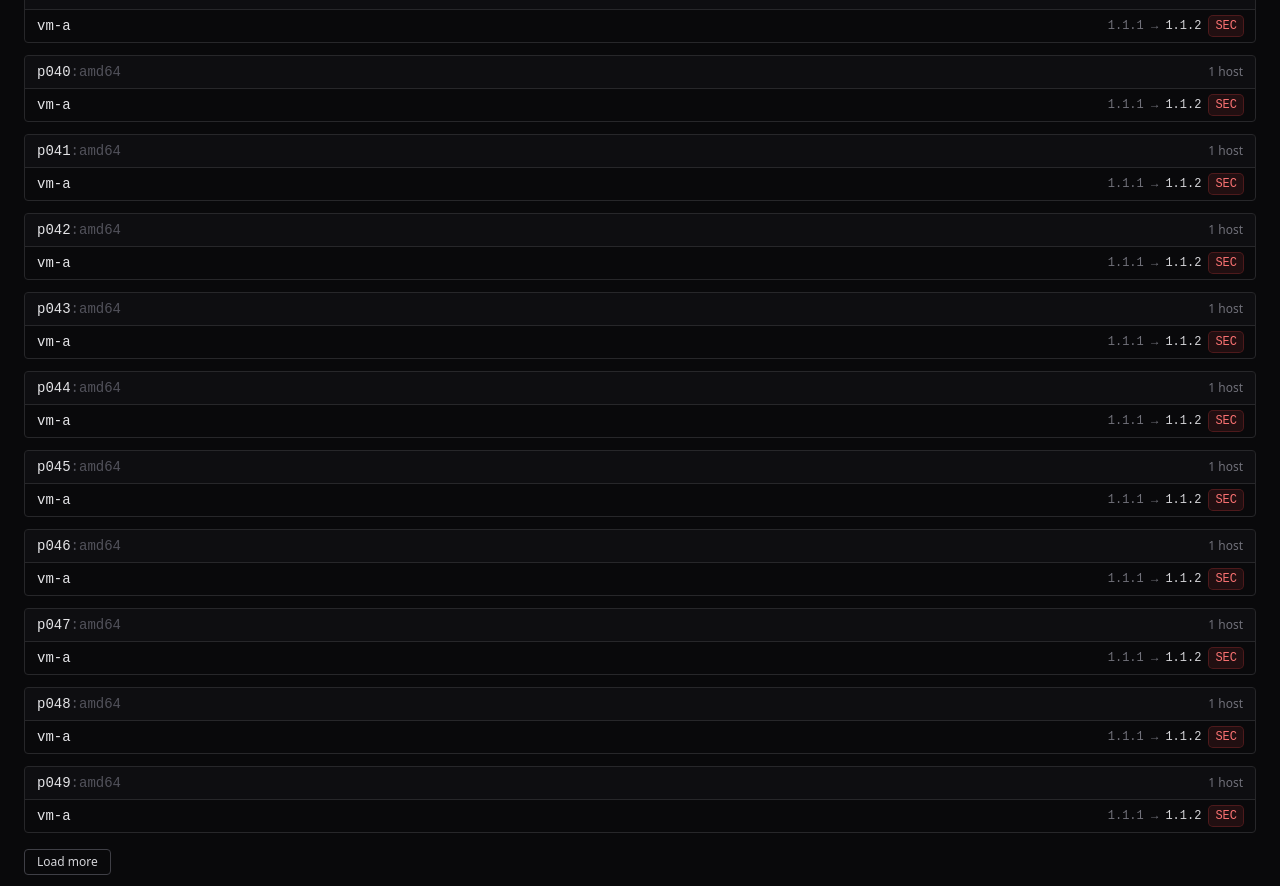
Test case: PackagesView › shows "Load more" only when a full page came back, and appends the next page
(page scrolled)
Click the button "Load more" at (67, 862), box [24,849,111,875]
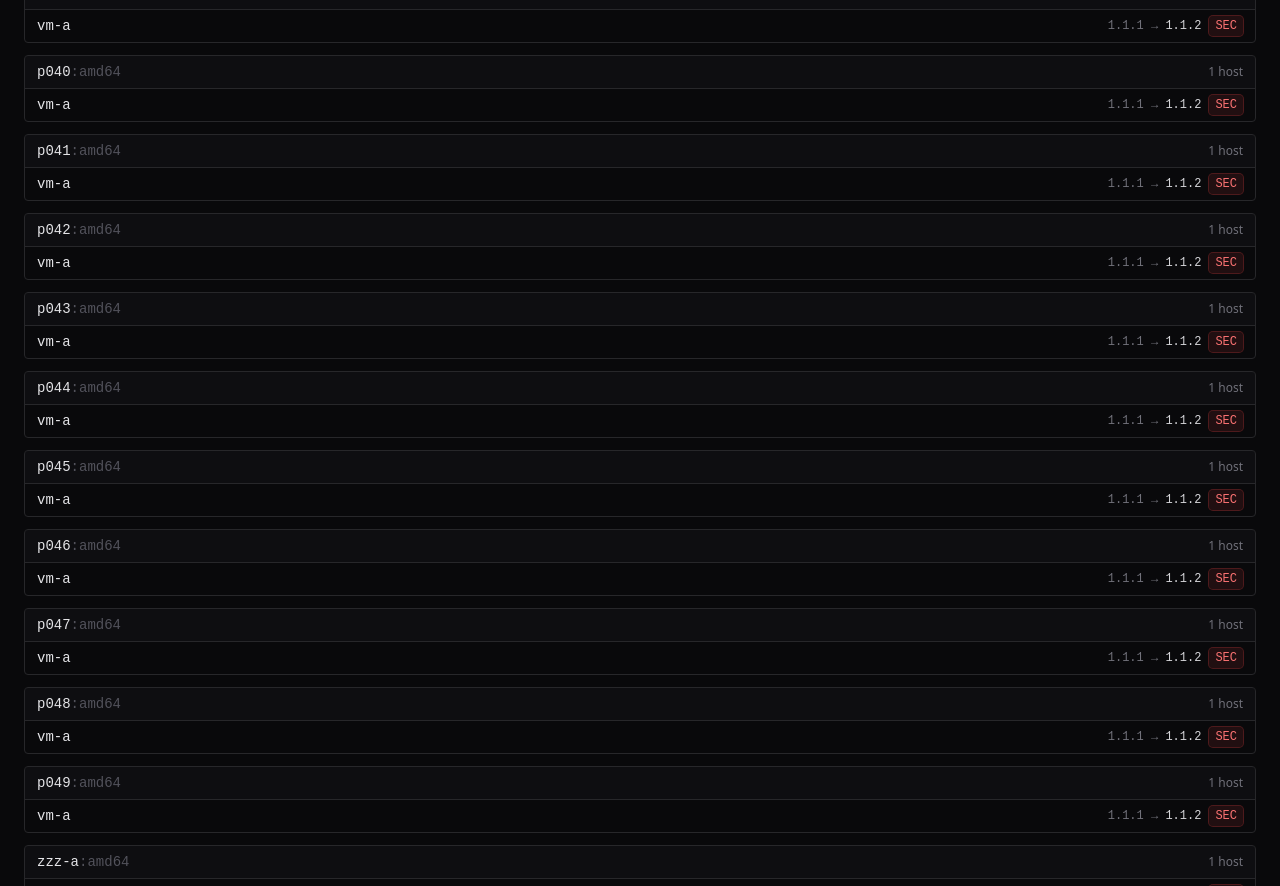
Expected: the text "p049" is shown, [37,775,71,791]
Expected: the text "zzz-a" is shown, [37,854,79,870]
Expected: the button "Load more" is gone
